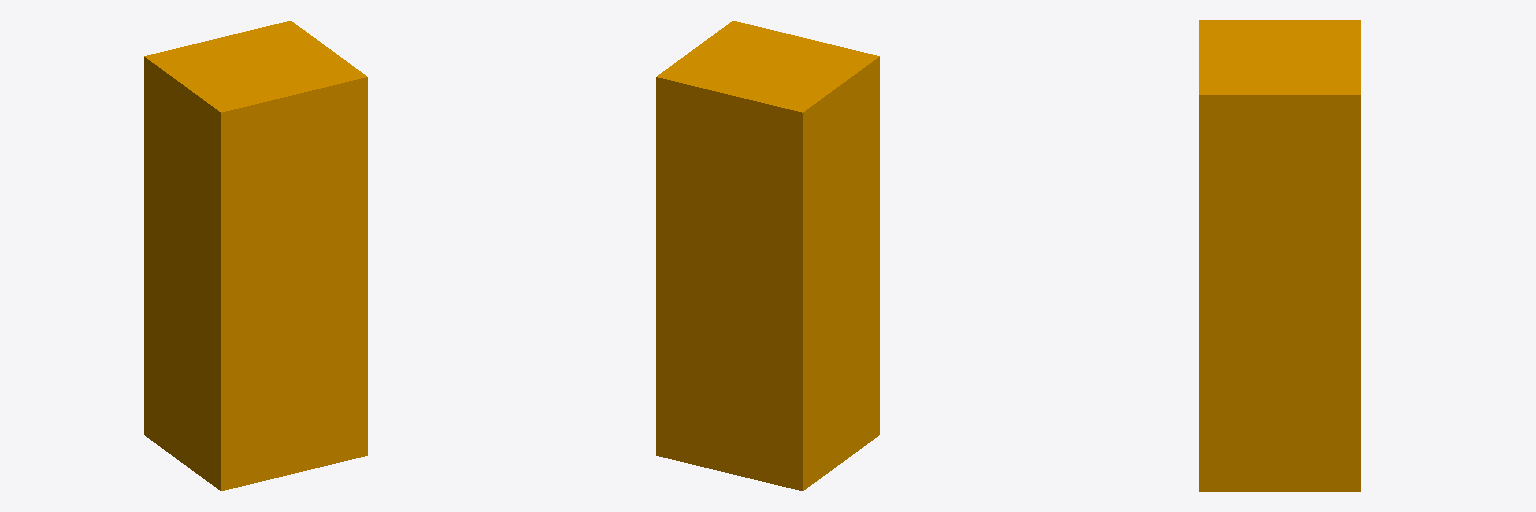
The robot description file, URDF, robot "2v2_mod_cuboid_small":
<?xml version="1.0" ?>
<robot name="2v2_mod_cuboid_small">

    <link name="2v2_mod_cuboid_small">
        <visual>
        <origin rpy="1.5707963267948966 0 0" xyz="0 0 0"/>
            <geometry>
                <mesh filename="obj_files/2v2_mod_cuboid_small.obj" scale="1.1 1.1 1"/>
            </geometry>
        </visual>
        <collision>
                <origin rpy="1.5707963267948966 0 0" xyz="0 0 0"/>
            <geometry>
                <mesh filename="obj_files/2v2_mod_cuboid_small_collision.obj" scale="1.1 1.1 1"/>
            </geometry>
        </collision>
        <inertial>
            <mass value="0.03"/>
            <inertia ixx="0.000029435425" ixy="0.0" ixz="0.0" iyy="0.000029435425" iyz="0.0" izz="0.00000725805"/>
        </inertial>
    </link>

</robot>

--- What the picture shows (computed from the rendered views, not written in the file) ---
3 views of the same robot in one strip: view 1: azimuth 30°, elevation 25°; view 2: azimuth 150°, elevation 25°; view 3: azimuth 270°, elevation 25° (orthographic).
Model 2v2_mod_cuboid_small with 1 links and 0 joints (none), rooted at 2v2_mod_cuboid_small, posed all joints at 0.
Links seen in each view (by area): view 1: 2v2_mod_cuboid_small; view 2: 2v2_mod_cuboid_small; view 3: 2v2_mod_cuboid_small.
Link boxes in pixels (bbox=[...]): 2v2_mod_cuboid_small: bbox=[144, 21, 367, 490]; 2v2_mod_cuboid_small: bbox=[656, 21, 879, 490]; 2v2_mod_cuboid_small: bbox=[1199, 20, 1360, 491].
Bounding box of the posed robot: 0.0429 × 0.039 × 0.1056 m (x, y, z).
1 mesh visuals loaded from 1 distinct referenced files (1 OBJ).